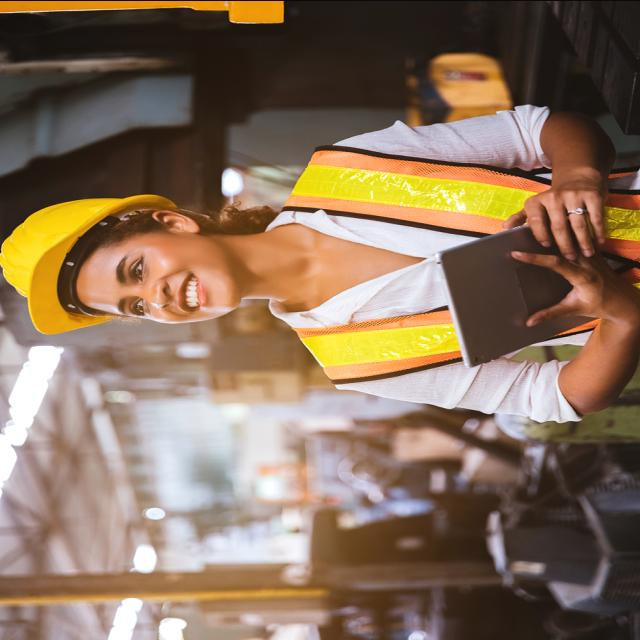Hard Hat: (0, 185, 176, 338)
Reflective Vest: (267, 128, 640, 384)
